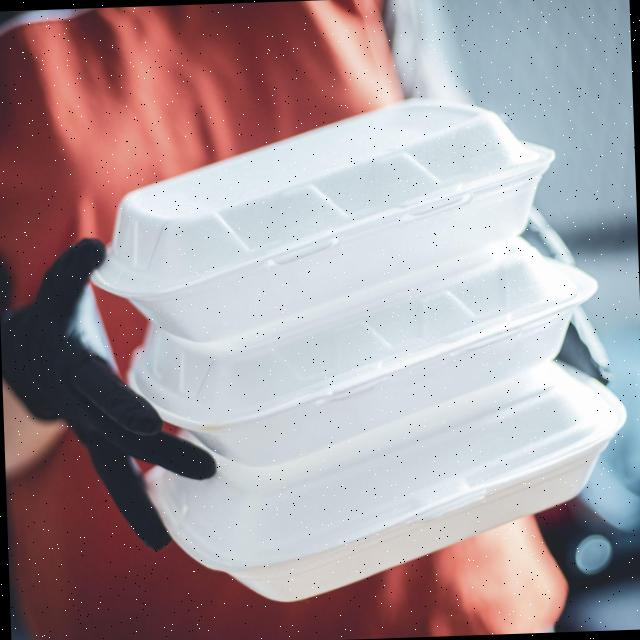styrofoam: (82, 88, 632, 608)
